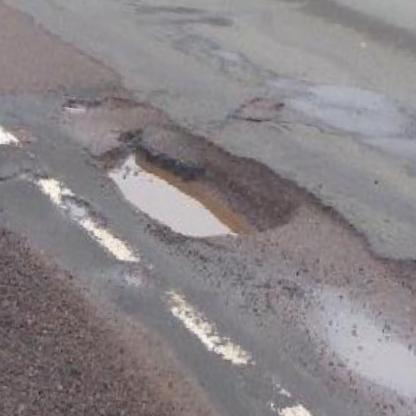pothole: (85, 138, 303, 243), (378, 248, 416, 309), (59, 89, 100, 118)
